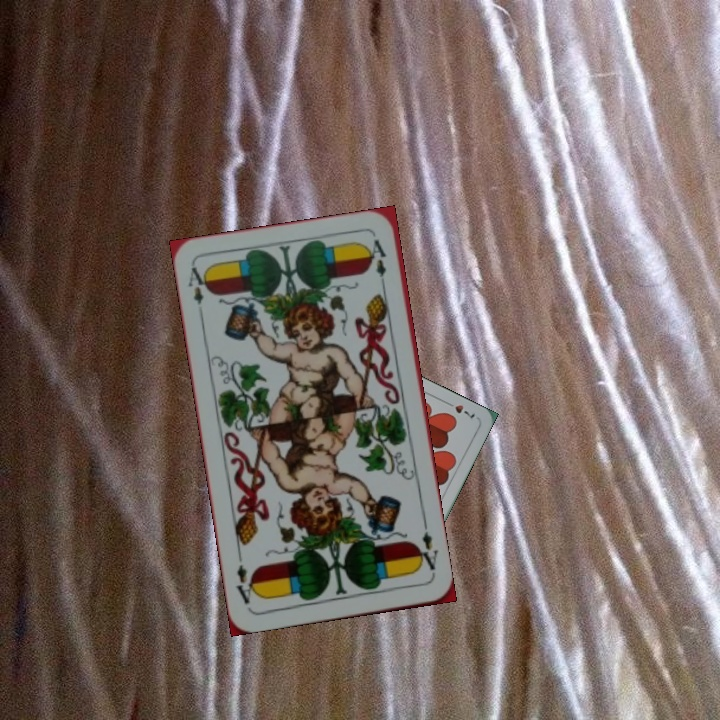EA: (184, 263, 212, 321), (411, 527, 441, 578)
H7: (440, 397, 478, 421)
